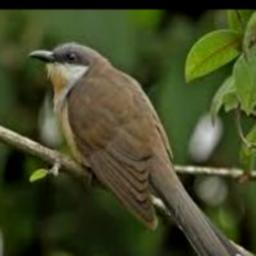Cuckoo: (27, 41, 251, 256)
